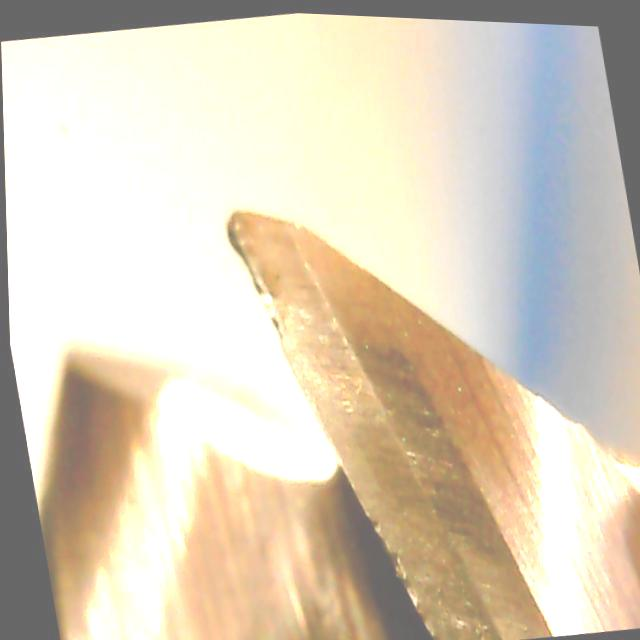Tool-wear-class-1: (204, 179, 437, 448)
